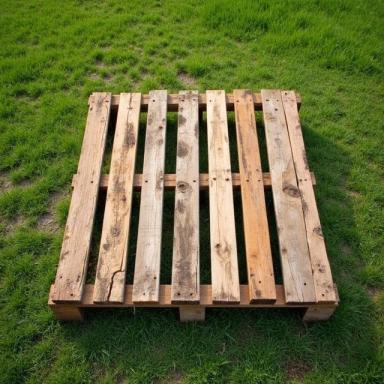pallet: (48, 88, 340, 323)
